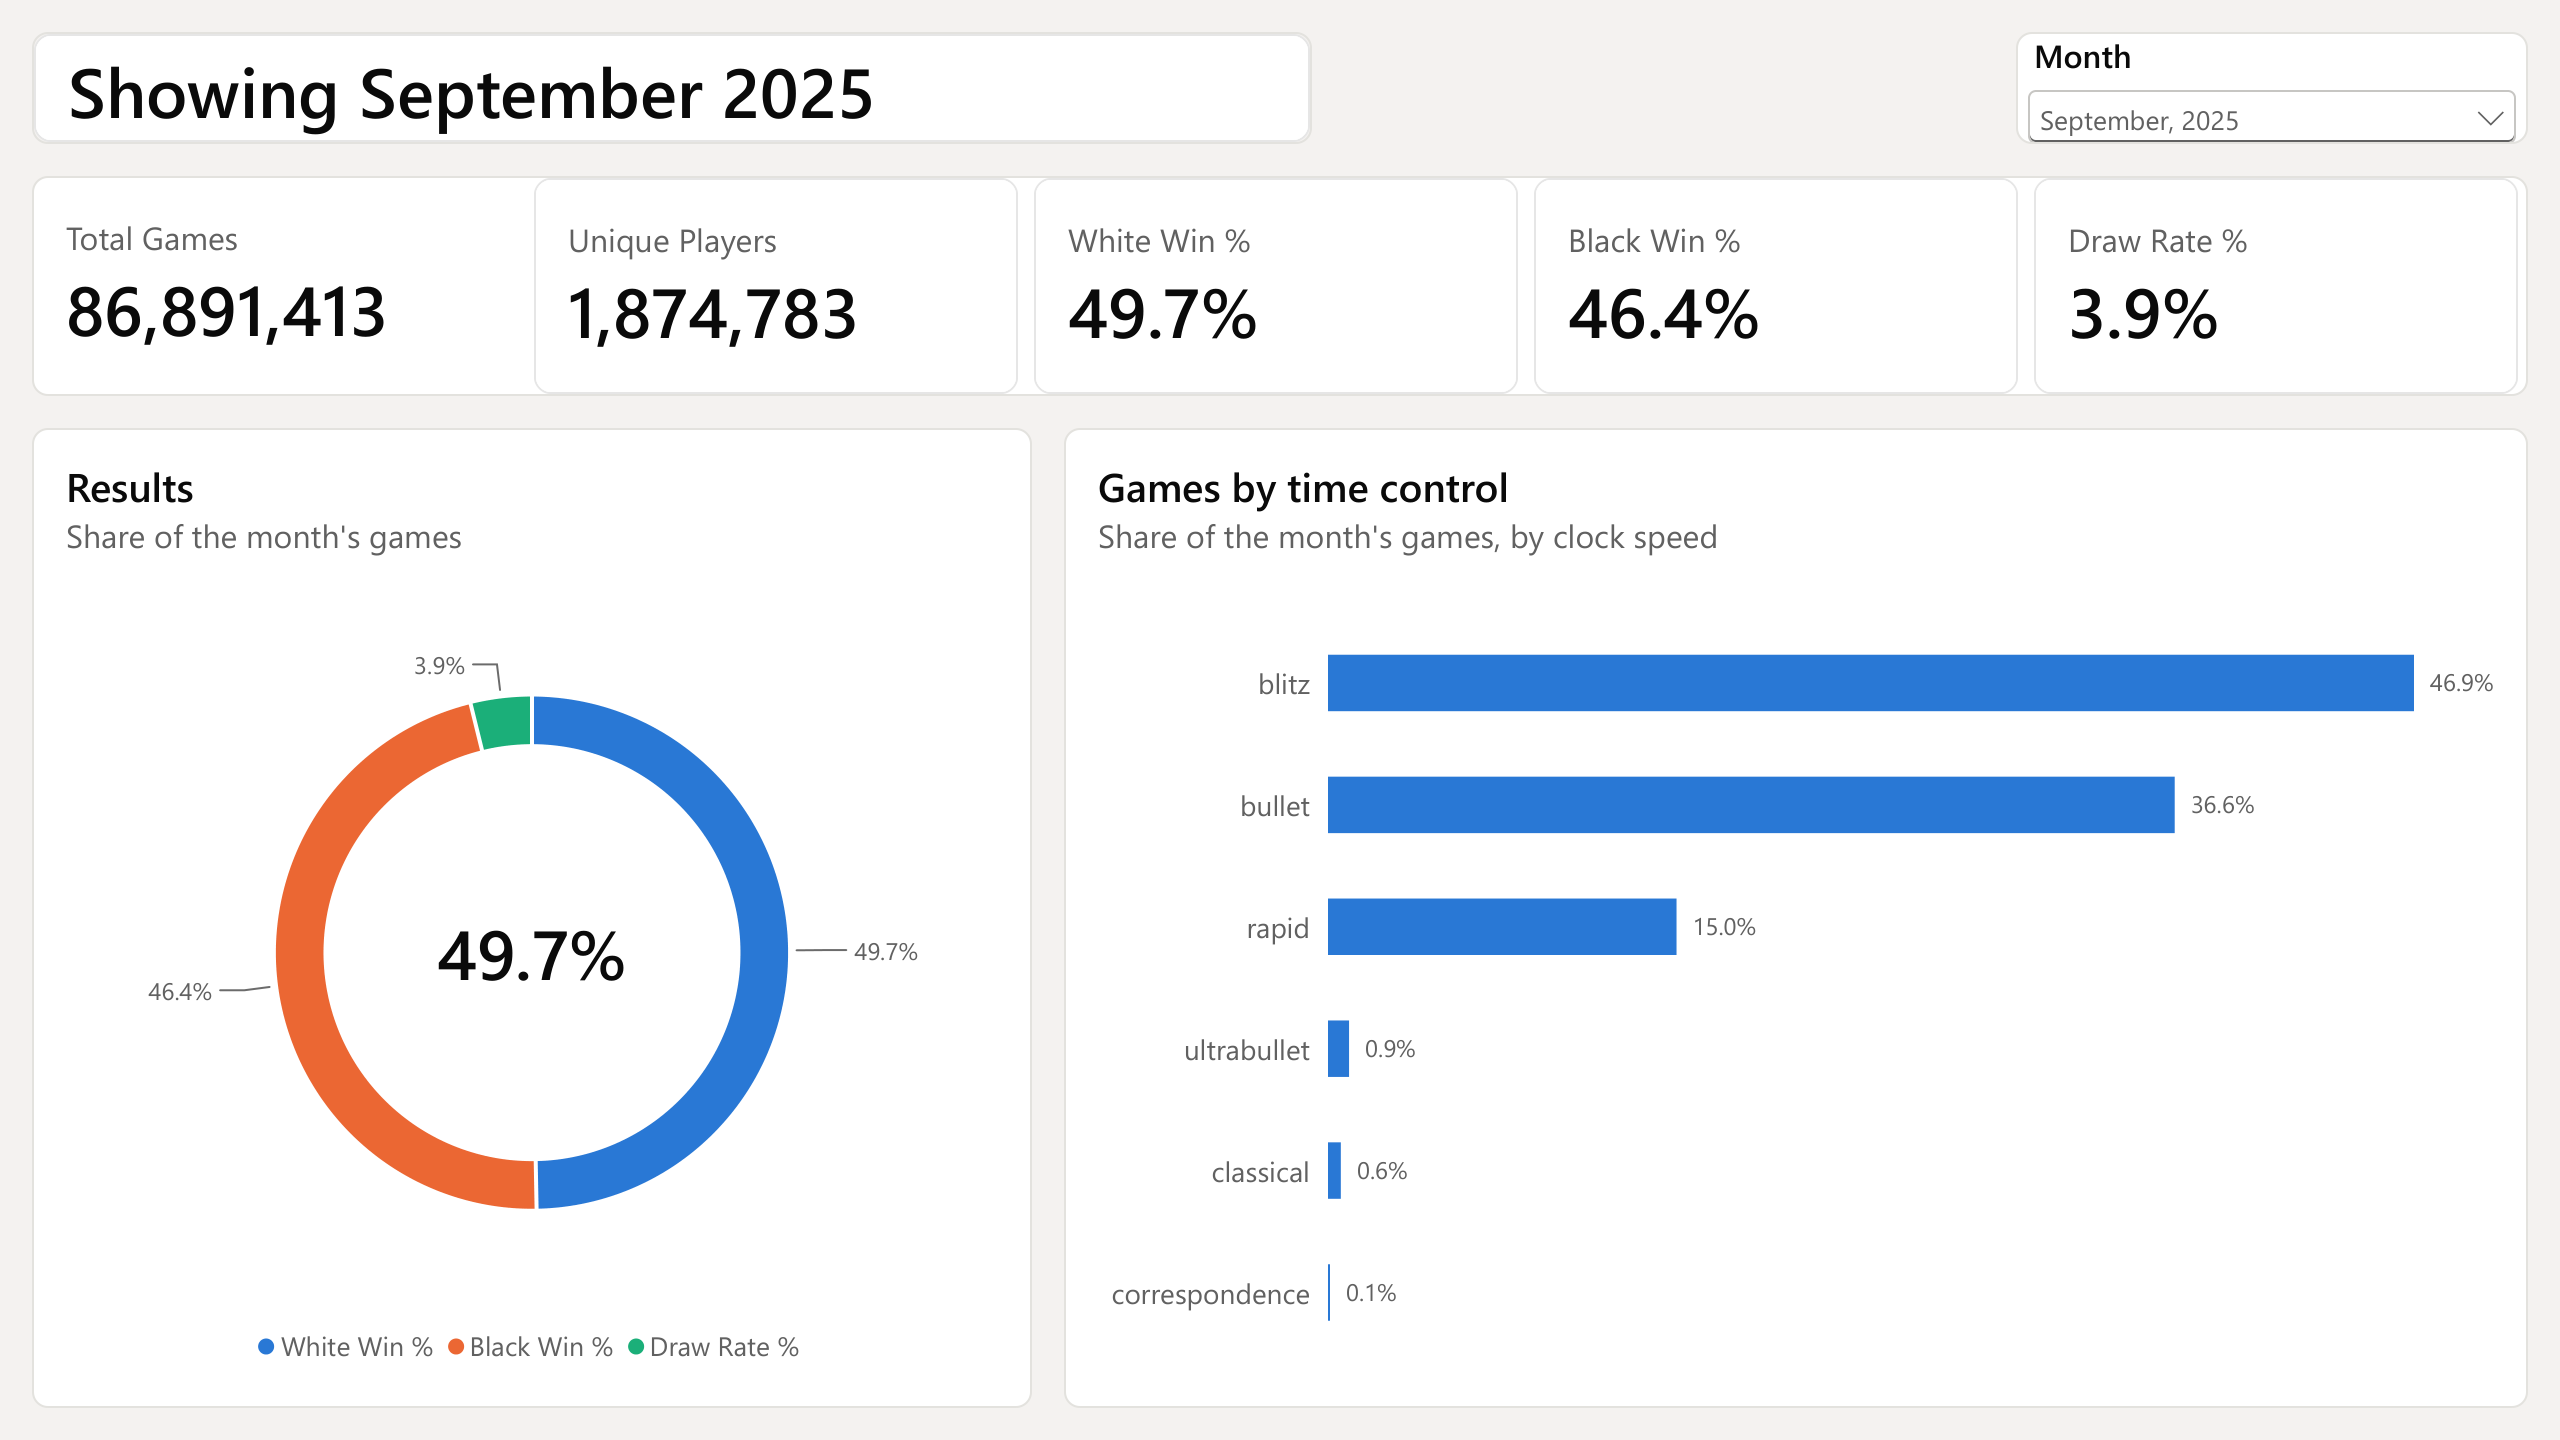

This screenshot's page, from the dashboard's own definition file:
{"tool":"powerbi","page":{"name":"Monthly  Overview","canvas":[1920,1080],"ordinal":0},"visuals":[{"type":"cardVisual","fields":{"Data":["fct_game_outcomes.Selected Month"]},"box":[70,152.9,688.6,68.6],"z":0},{"type":"slicer","fields":{"Values":["dim_month.month_date"]},"box":[758.6,154.3,288.6,67.1],"z":1000},{"type":"cardVisual","fields":{"Data":["fct_game_outcomes.Total Games","fct_game_outcomes.Unique Players","fct_game_outcomes.White Win %","fct_game_outcomes.Black Win %","fct_game_outcomes.Draw Rate %"]},"box":[70,221.4,977.1,110],"z":2000},{"type":"donutChart","title":"Results","fields":{"Y":["fct_game_outcomes.White Win %","fct_game_outcomes.Black Win %","fct_game_outcomes.Draw Rate %"]},"box":[70,331.4,415.7,345.7],"z":3000},{"type":"clusteredBarChart","title":" Games by time control","fields":{"Category":["dim_time_control.time_control"],"Y":["fct_game_outcomes.Share of Games"]},"box":[485.7,331.4,561.4,345.7],"z":4000}]}

Visuals, with their boxes in screenshot pixels (x1, y1, x2, y2), scaled from the page's 1920x1080 canvas onto the 2560x1440 screenshot:
cardVisual - fct_game_outcomes.Selected Month: detection(93, 204, 1011, 295)
slicer - dim_month.month_date: detection(1011, 206, 1396, 295)
cardVisual - fct_game_outcomes.Total Games x fct_game_outcomes.Unique Players: detection(93, 295, 1396, 442)
"Results" donutChart: detection(93, 442, 648, 903)
" Games by time control" clusteredBarChart: detection(648, 442, 1396, 903)
